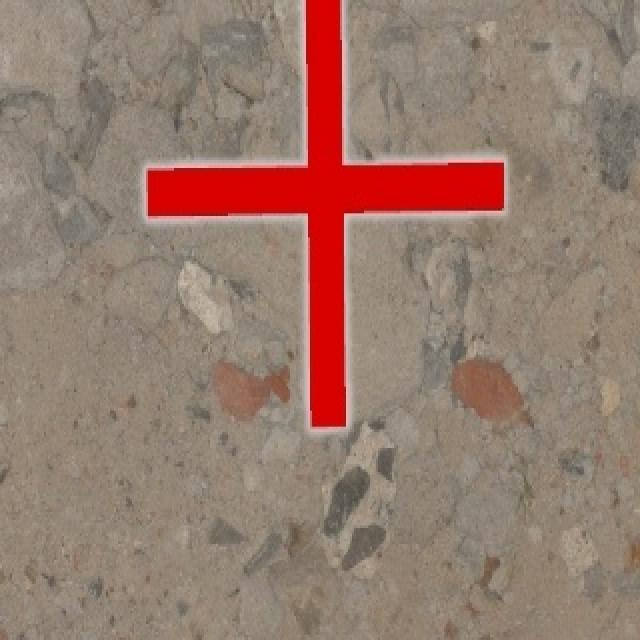x_marker: (145, 0, 503, 427)
